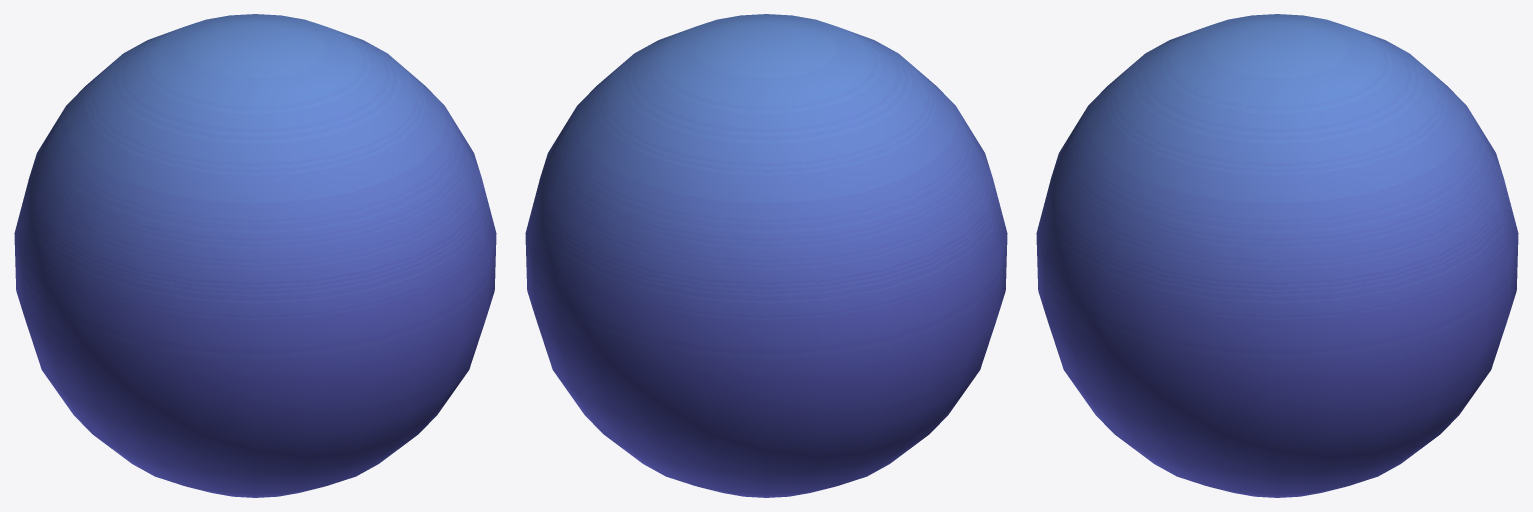
File: ball-blue.glb
The picture shows the model from 3 angles, left to right: view 1: azimuth 30°, elevation 25°; view 2: azimuth 150°, elevation 25°; view 3: azimuth 270°, elevation 25°; orthographic projection.
Parts seen in each view (by area): view 1: ball-blue; view 2: ball-blue; view 3: ball-blue.
Boxes of the visible parts, bbox=[...] form: ball-blue: bbox=[14, 14, 496, 497]; ball-blue: bbox=[525, 14, 1007, 497]; ball-blue: bbox=[1036, 14, 1518, 497].
Bounding box in the file's own units: 0.0699 × 0.0697 × 0.0699.
1 material, 1 textured.
